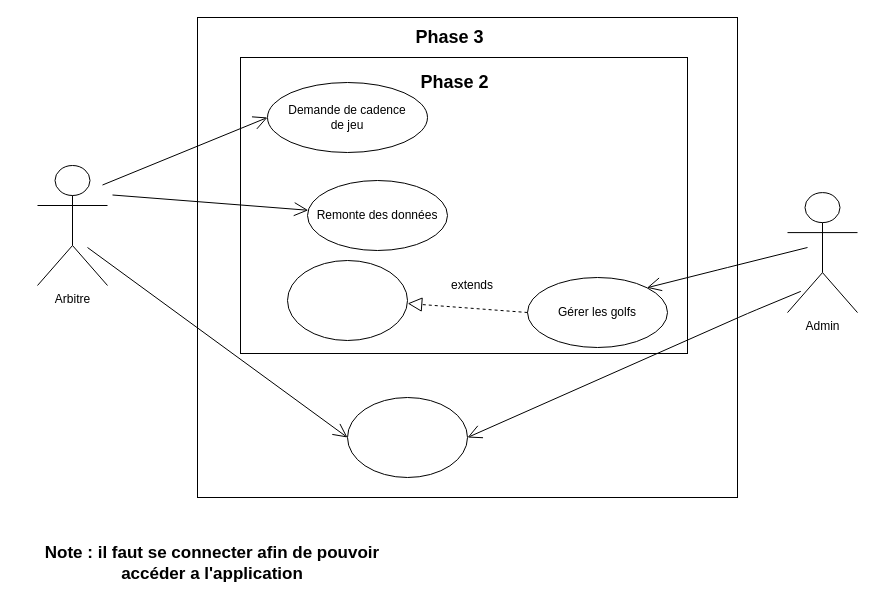
Image size: 875x601. Some labels were removed from this diagram. The shapes that lost their labels are listed below. From the top down, each one's centre as x and y in pixels, then its label:
(347,300): Gérer les trous
(407,437): Report les différences de temps
